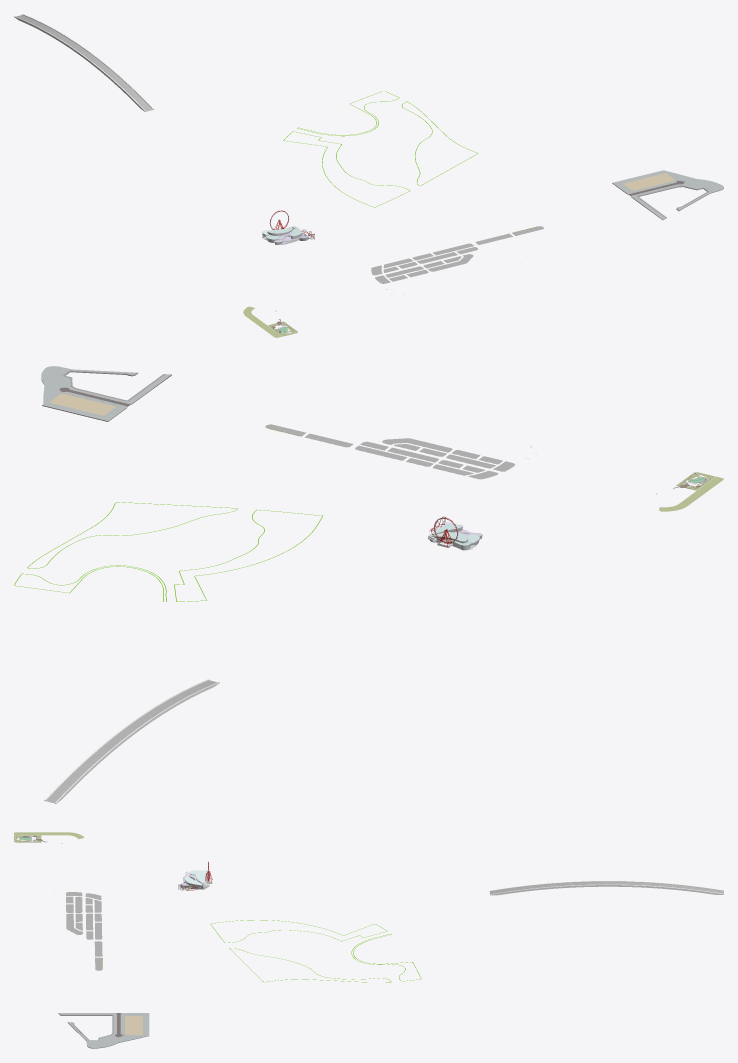
File: sala-part-01.glb
The picture shows the model from 3 angles, top to bottom: view 1: azimuth 30°, elevation 25°; view 2: azimuth 150°, elevation 25°; view 3: azimuth 270°, elevation 25°; orthographic projection. The views are drawn at different scales.
Parts seen in each view (by area): view 1: Component#3576, Group#11865, Group#1, qhsthg.dwg; view 2: Component#3576, Group#11865, Group#1, qhsthg.dwg; view 3: Component#3576, Group#1, Group#11865, qhsthg.dwg, Component#2971, Group24#3.
Boxes of the visible parts, x1,y1,x2,y2 form: Component#3576: (371,226,543,283); Group#11865: (612,171,723,220); Group#1: (15,15,152,111); qhsthg.dwg: (283,91,477,207); Component#3576: (265,424,514,479); Group#11865: (41,366,171,421); Group#1: (46,680,219,803); qhsthg.dwg: (14,502,322,601); Component#3576: (66,892,102,970); Group#1: (490,881,723,895); Group#11865: (58,1013,148,1048); qhsthg.dwg: (210,920,421,982); Component#2971: (178,870,209,890); Group24#3: (489,884,723,895).
Bounding box in the file's own units: 1702 × 78.68 × 2367.
